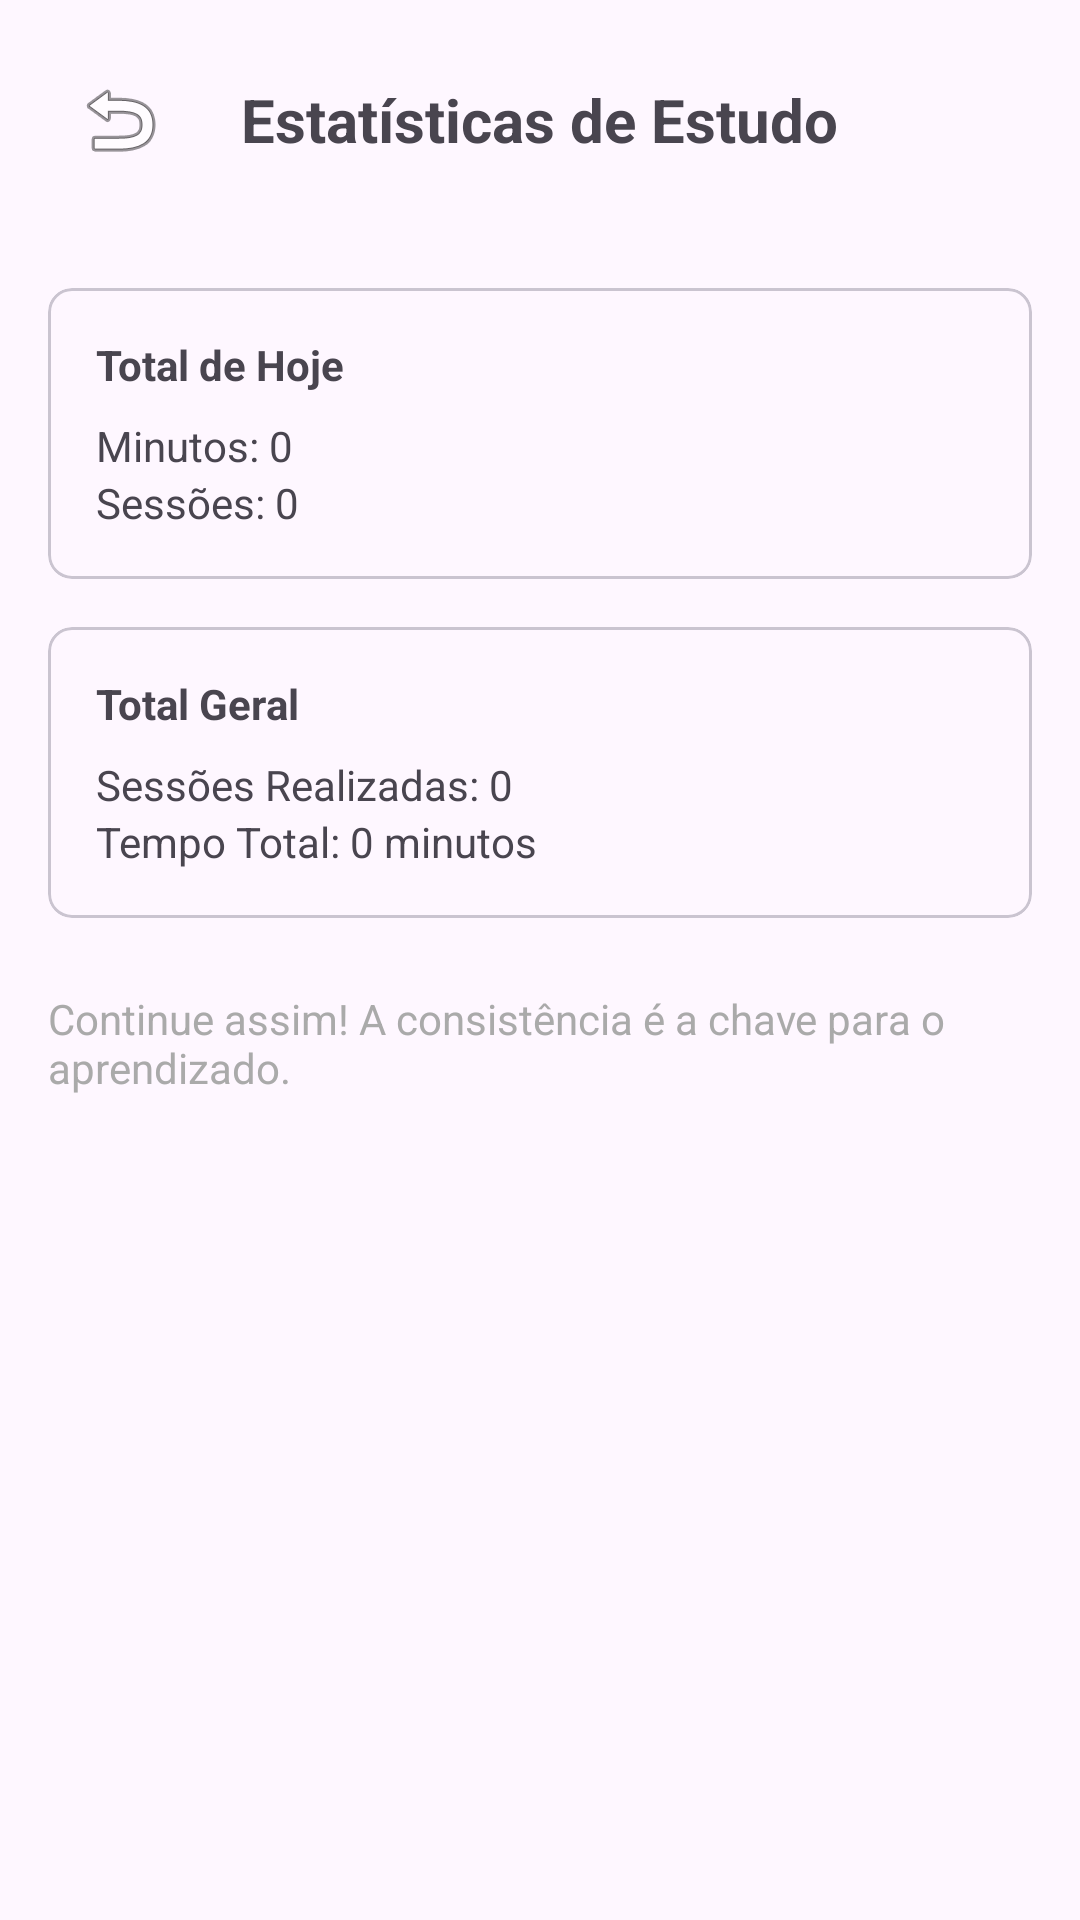

Named icons in this screenshot (1080 x 1920) and their centers, point (x, y):
Voltar: point (121, 120)
